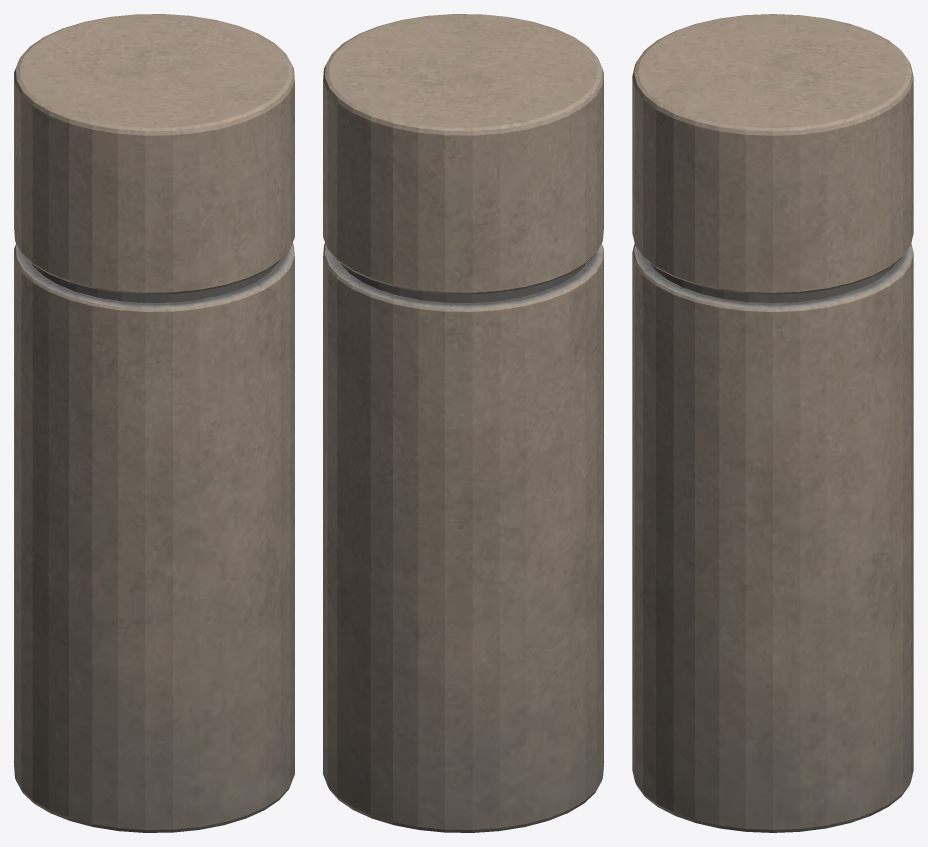
File: strAsset_01.glb
The picture shows the model from 3 angles, left to right: view 1: azimuth 30°, elevation 25°; view 2: azimuth 150°, elevation 25°; view 3: azimuth 270°, elevation 25°; orthographic projection.
Visible parts, largest first — view 1: geometry_0; view 2: geometry_0; view 3: geometry_0.
Part boxes in pixels (bbox=[...]): geometry_0: bbox=[14, 14, 294, 832]; geometry_0: bbox=[323, 14, 603, 832]; geometry_0: bbox=[632, 14, 913, 832].
Bounding box in the file's own units: 0.0514 × 0.1422 × 0.0514.
Materials: 1 (1 with a texture image).
